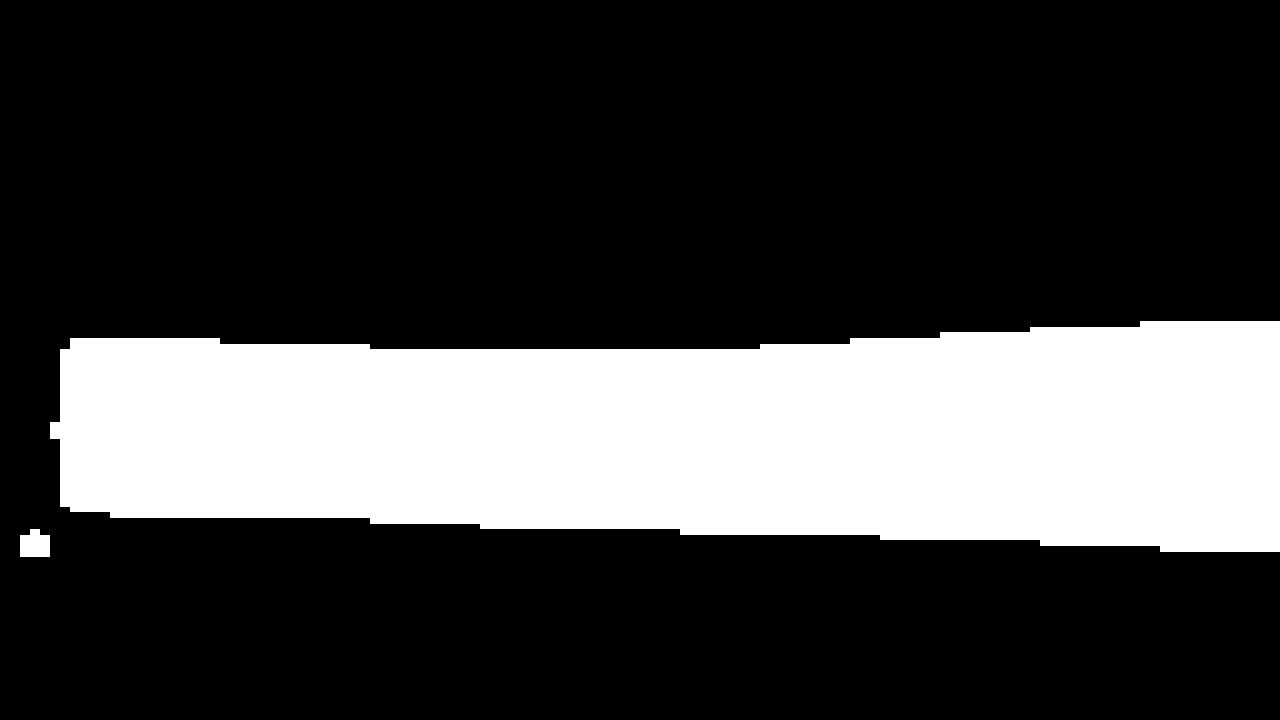Turbine: (37, 296, 1280, 570)
